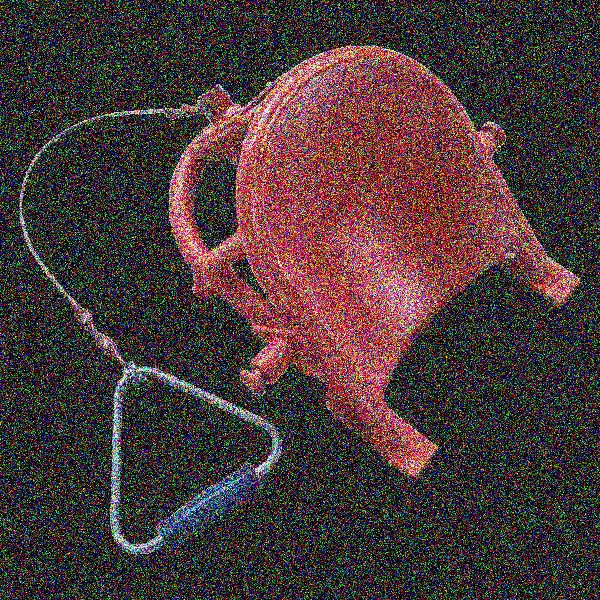chock: (164, 45, 586, 484)
